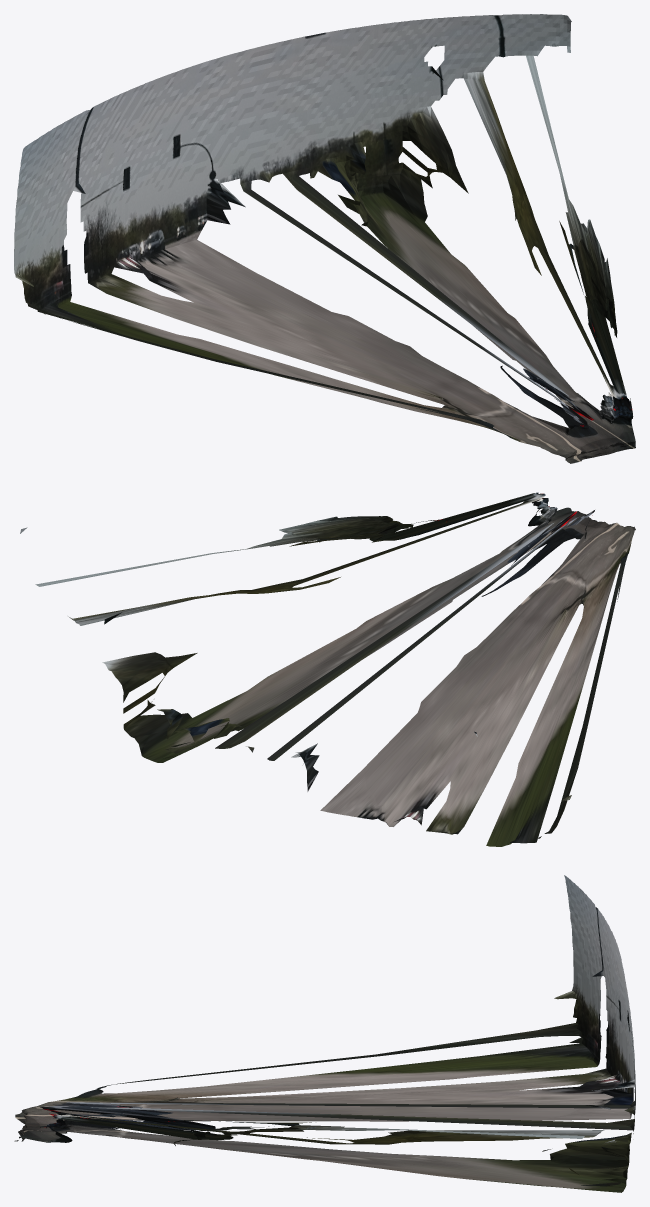
The picture shows the model from 3 angles, top to bottom: view 1: azimuth 30°, elevation 25°; view 2: azimuth 150°, elevation 25°; view 3: azimuth 270°, elevation 25°; orthographic projection. The views are drawn at different scales.
Parts seen in each view (by area): view 1: defaultobject; view 2: defaultobject; view 3: defaultobject.
Part boxes in pixels (x1=…): defaultobject: x1=14, y1=14, x2=635, y2=463; defaultobject: x1=20, y1=492, x2=635, y2=846; defaultobject: x1=14, y1=875, x2=635, y2=1192.
Size of the model in its own units: 40.97 by 13.75 by 44.61.
Materials: 1 (1 with a texture image).
